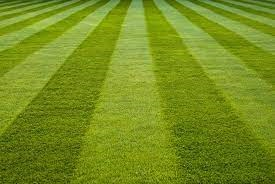grass: (2, 2, 272, 180)
